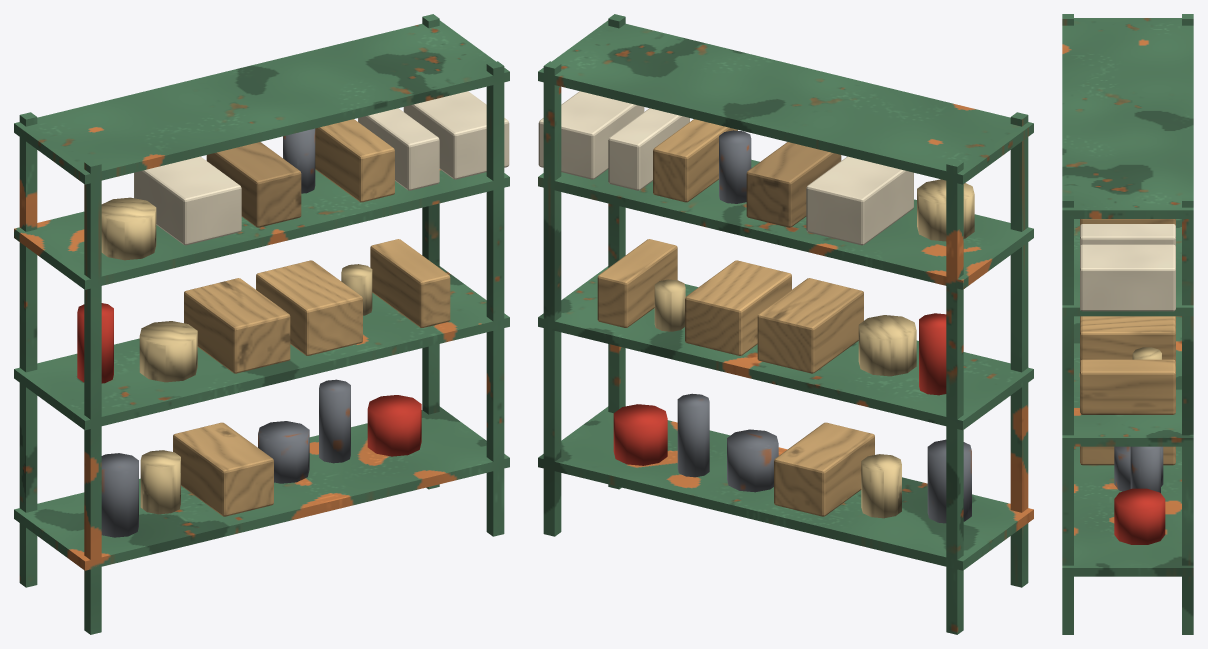
The model's file is bunker_shelves.glb.
The picture shows the model from 3 angles, left to right: view 1: azimuth 30°, elevation 25°; view 2: azimuth 150°, elevation 25°; view 3: azimuth 270°, elevation 25°; orthographic projection. The views are drawn at different scales.
Parts seen in each view (by area): view 1: Shelves; view 2: Shelves; view 3: Shelves.
Boxes of the visible parts, x1=… form: Shelves: x1=14, y1=14, x2=509, y2=634; Shelves: x1=538, y1=14, x2=1033, y2=634; Shelves: x1=1062, y1=14, x2=1193, y2=634.
Bounding box in the file's own units: 1.94 × 2 × 0.55.
Materials: 1 (1 with a texture image).
